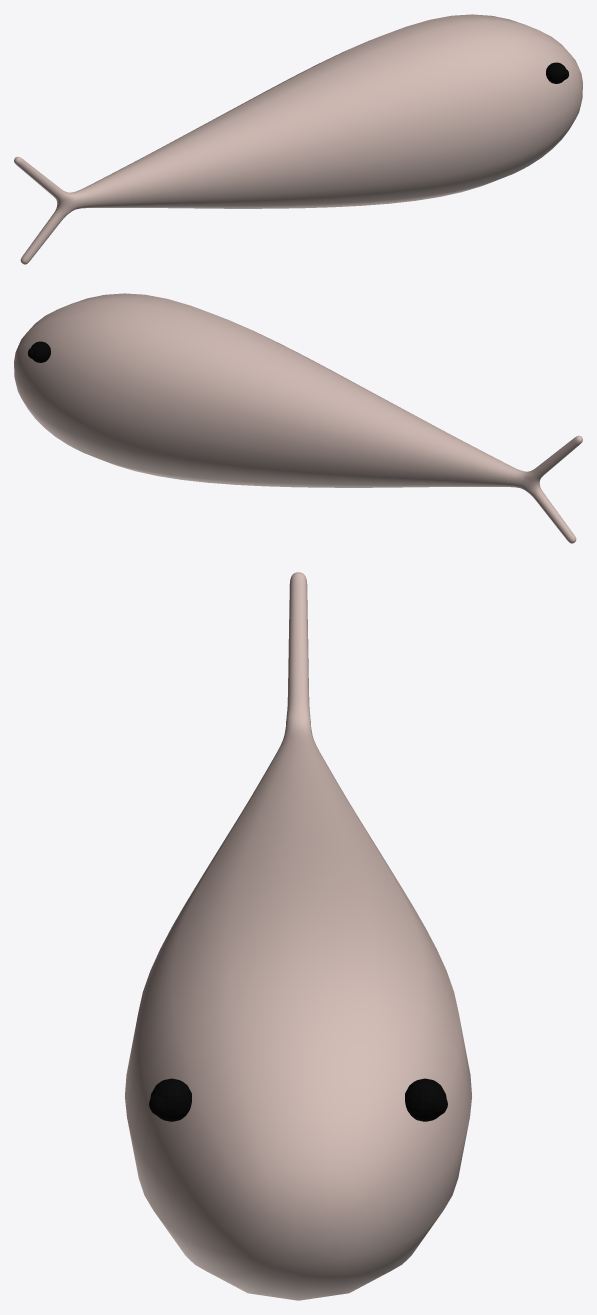
Rendered from peixe_caracol.glb.
3 renders of one model, top to bottom at view 1: azimuth 30°, elevation 25°; view 2: azimuth 150°, elevation 25°; view 3: azimuth 270°, elevation 25°, orthographic. The views are drawn at different scales.
Parts seen in each view (by area): view 1: corpo; view 2: corpo; view 3: corpo.
Boxes of the visible parts, x1,y1,x2,y2 form: corpo: [14, 14, 582, 264]; corpo: [14, 293, 582, 543]; corpo: [125, 572, 471, 1300].
Bounding box in the file's own units: 2.09 × 0.5606 × 0.6963.
